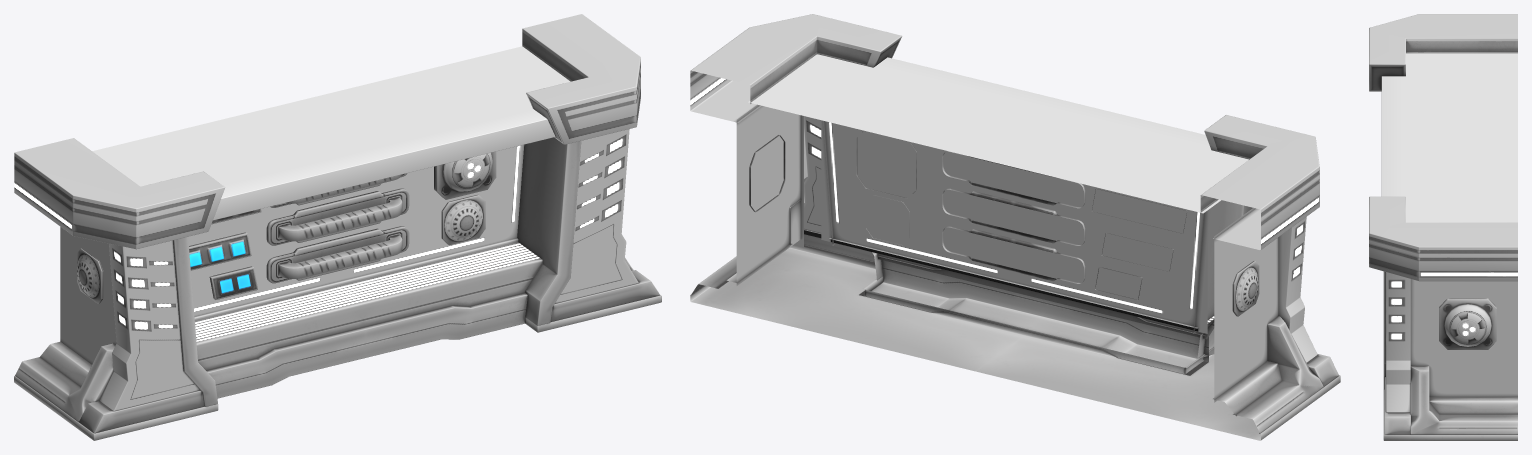
File: Table01_2.FBX
The picture shows the model from 3 angles, left to right: view 1: azimuth 30°, elevation 25°; view 2: azimuth 150°, elevation 25°; view 3: azimuth 270°, elevation 25°; orthographic projection. The views are drawn at different scales.
Visible parts, largest first — view 1: Table01_2; view 2: Table01_2; view 3: Table01_2.
Part boxes in pixels (bbox=[...]): Table01_2: bbox=[14, 14, 661, 440]; Table01_2: bbox=[690, 14, 1340, 440]; Table01_2: bbox=[1369, 14, 1517, 440].
Size of what is drawn, in the model's own units: 2.52 by 0.9753 by 0.6779.
